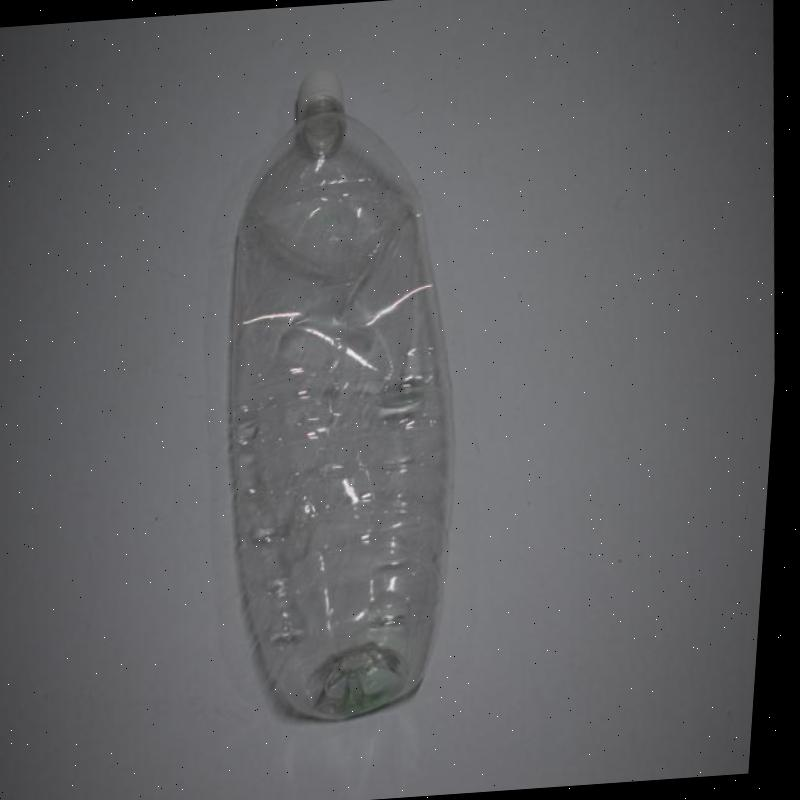botella: (191, 60, 498, 736)
